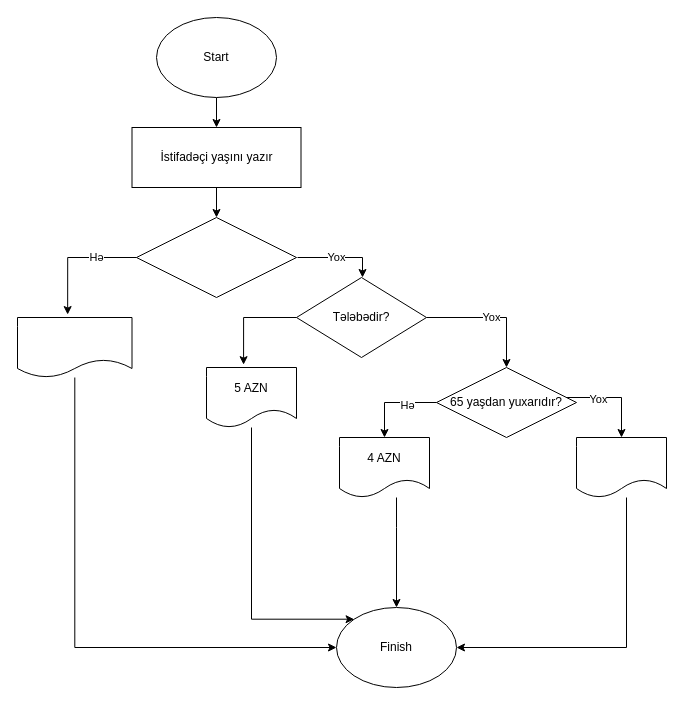
Image size: 684x705. Some labels were removed from this diagram. The shapes that lost their labels are listed below. From the top down, each one's centre as x and y in pixels, then its label:
At (216,257): "Yaş < 7".
At (74,347): "Bilet pulsuzdur".
At (621,467): "8 AZN".
